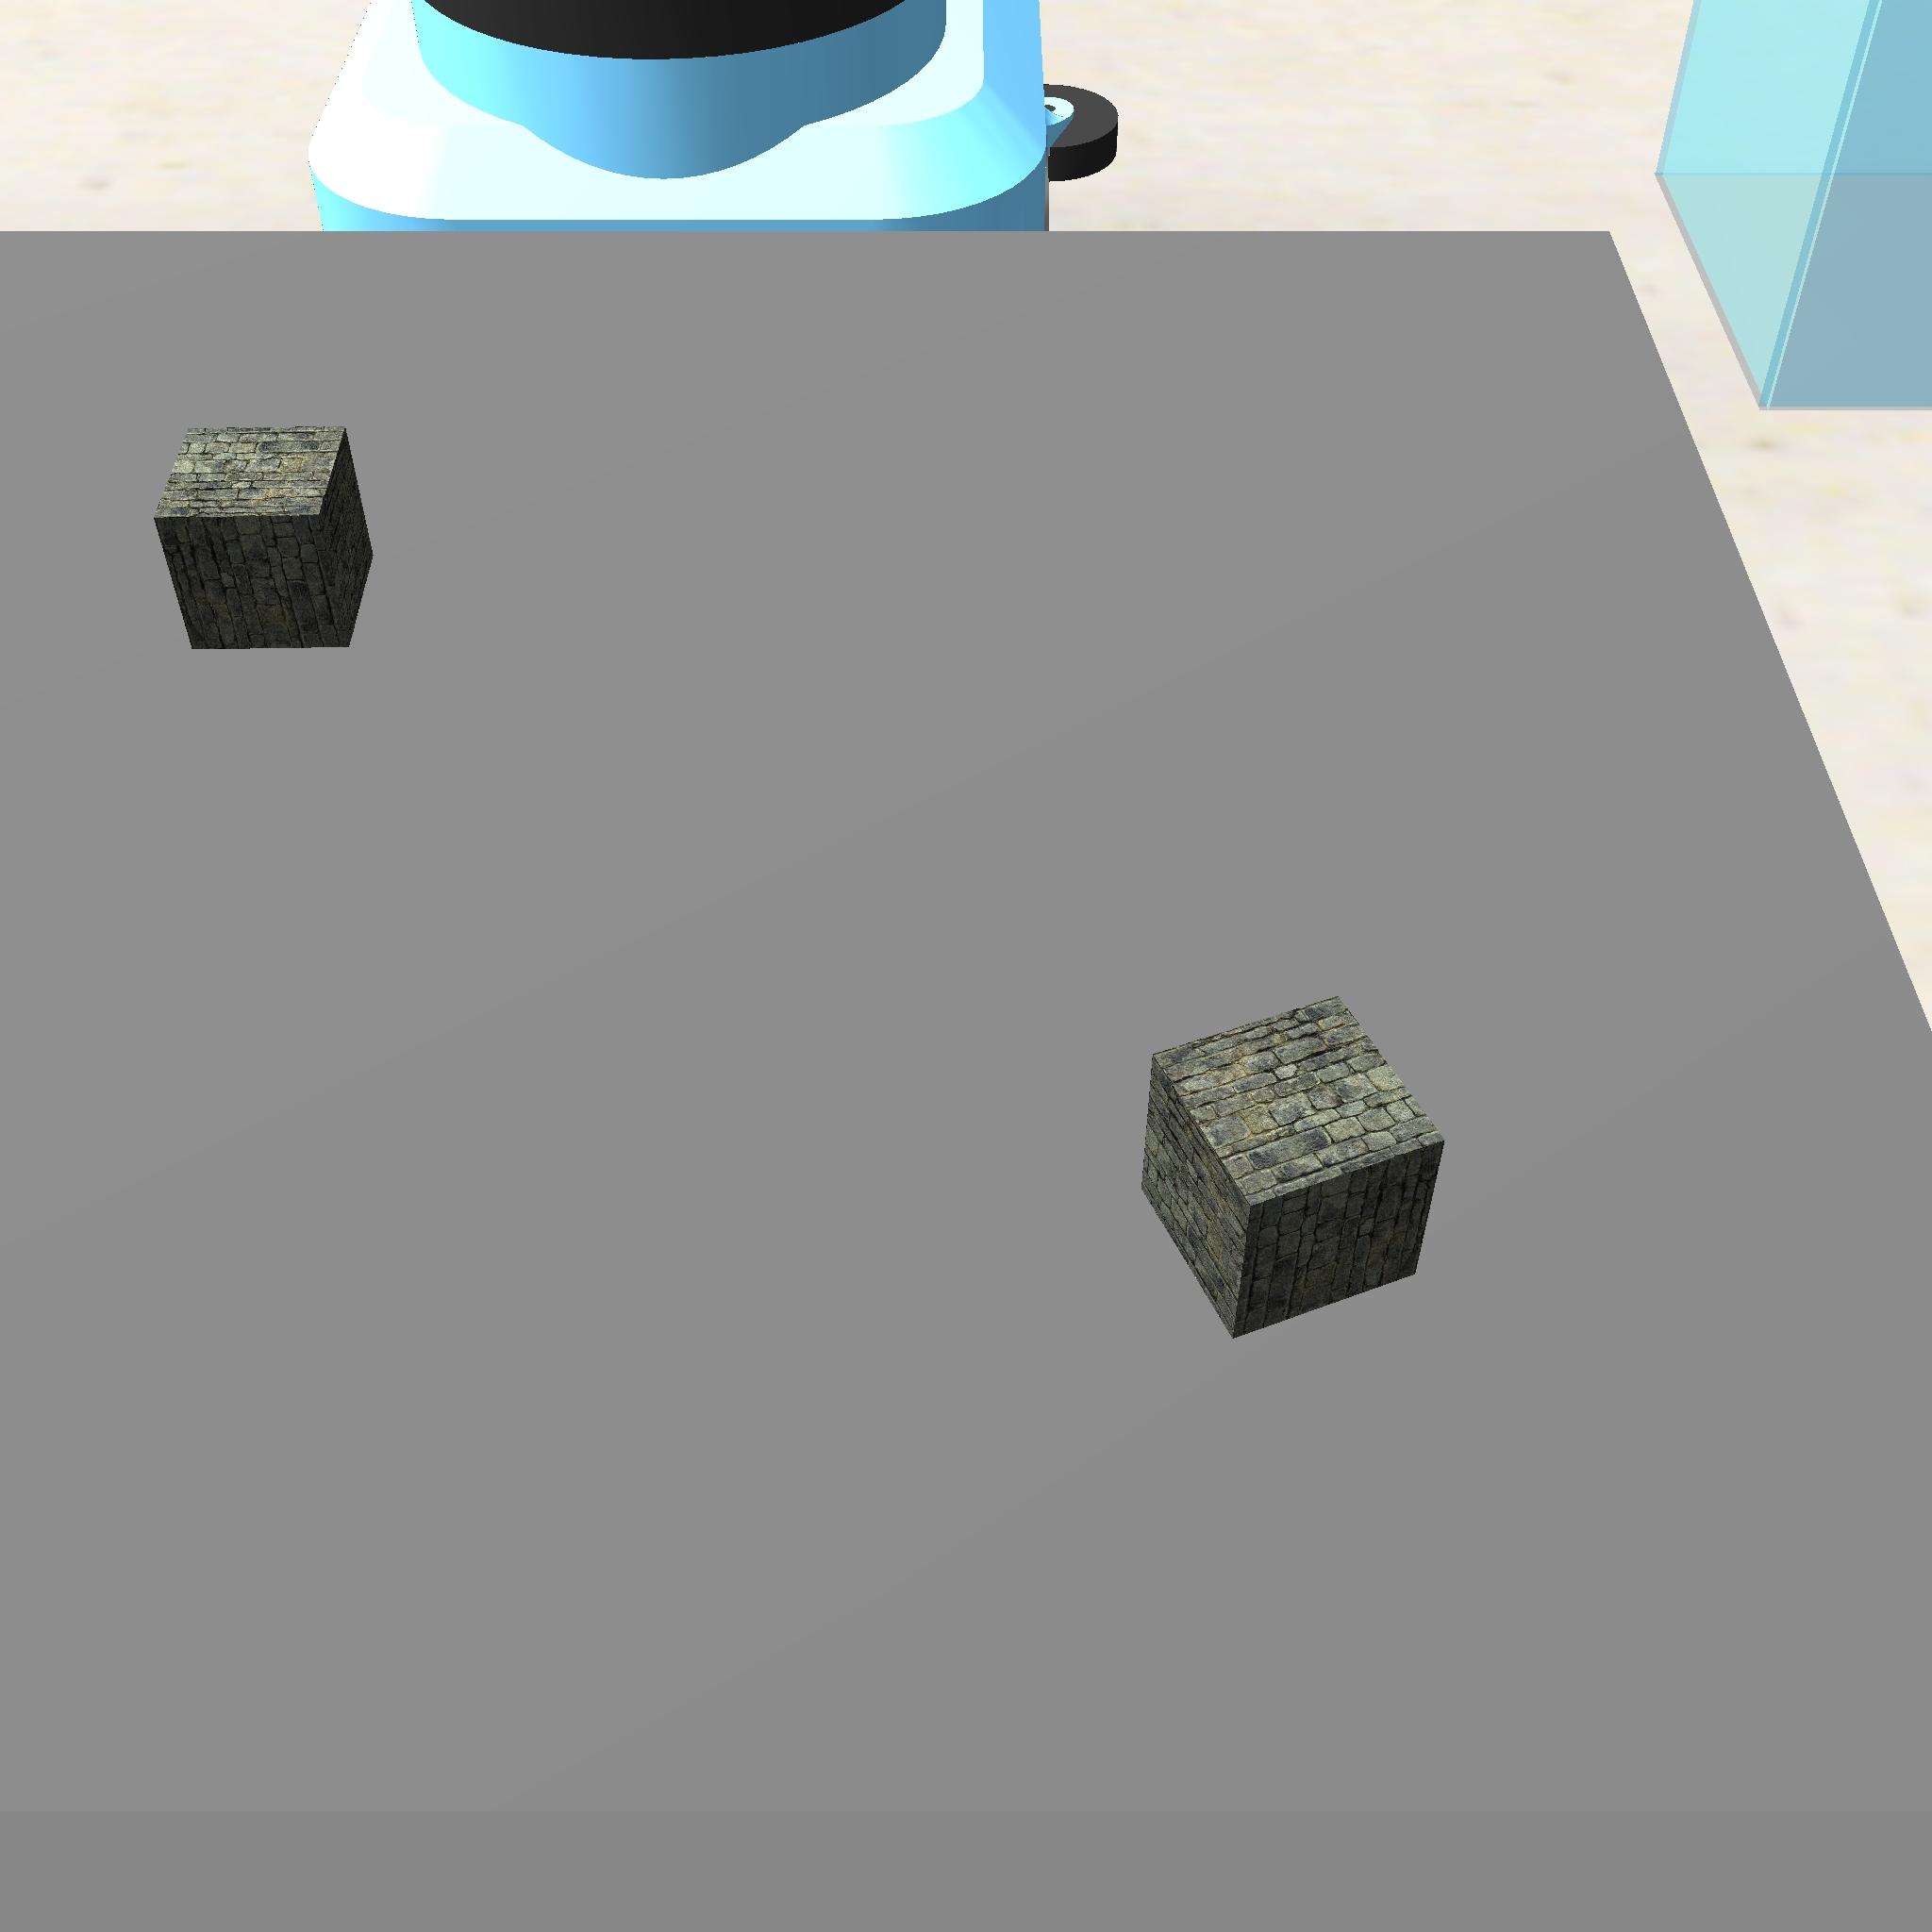cube: (1132, 989, 1453, 1345), (150, 414, 384, 665)
